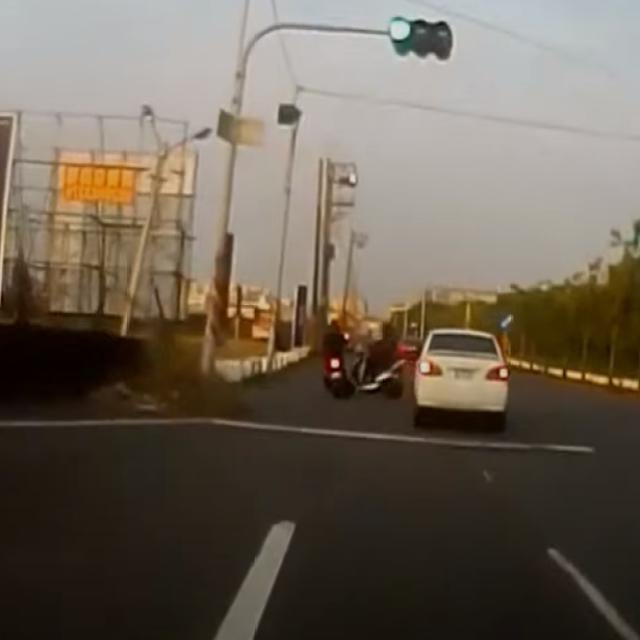accident: (320, 316, 408, 400)
